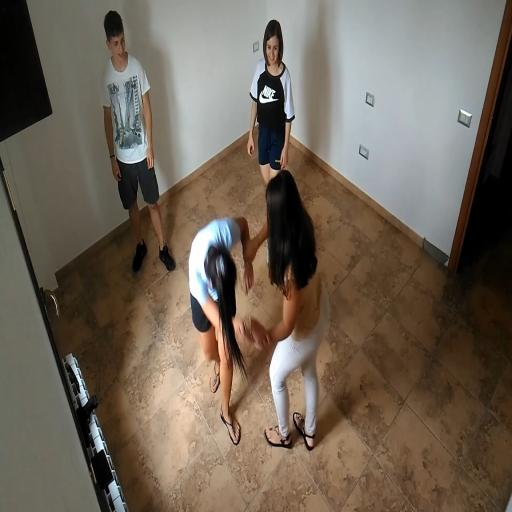violencia: (174, 158, 352, 463)
